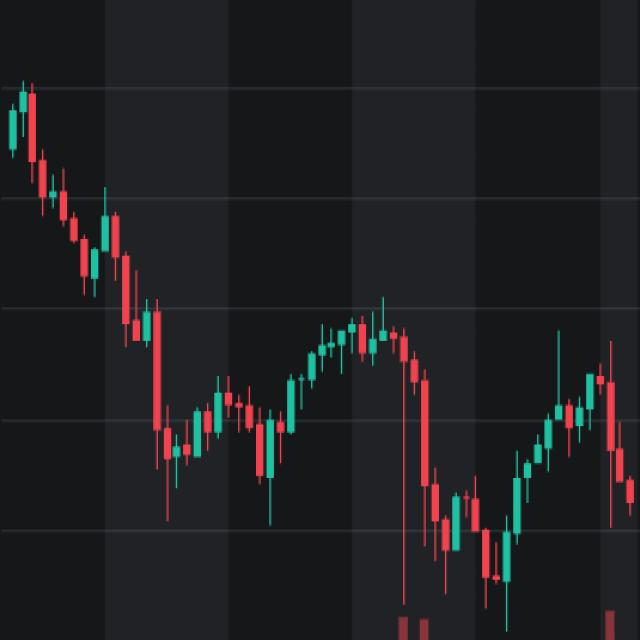Resistance-Emerging: (160, 299, 634, 594)
